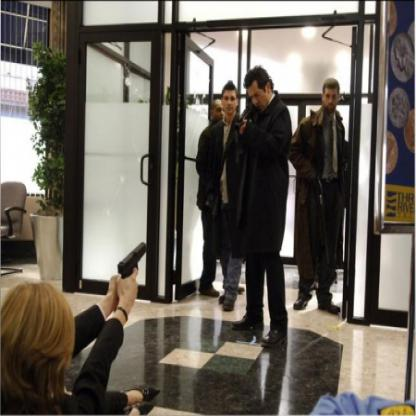Gun: (309, 168, 332, 267), (110, 241, 151, 286), (233, 104, 252, 138)
